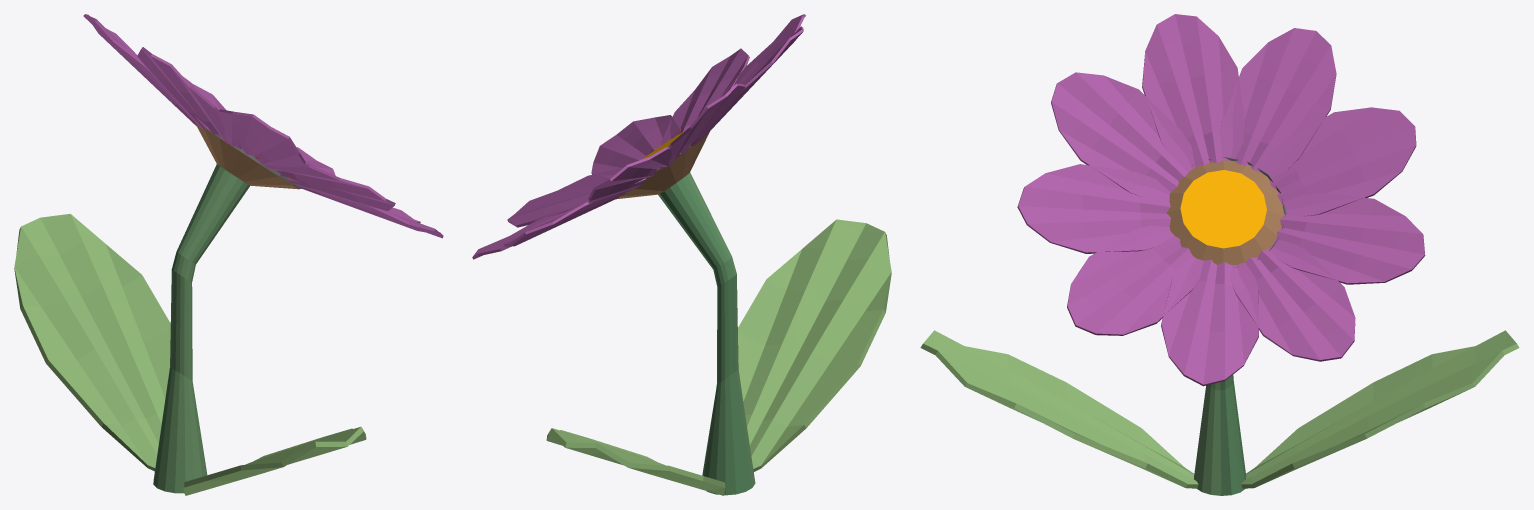
File: Flower_2 (3).fbx
The picture shows the model from 3 angles, left to right: view 1: azimuth 30°, elevation 25°; view 2: azimuth 150°, elevation 25°; view 3: azimuth 270°, elevation 25°; orthographic projection. The views are drawn at different scales.
Parts seen in each view (by area): view 1: Flower.001, Flower_2; view 2: Flower.001, Flower_2; view 3: Flower_2, Flower.001.
Boxes of the visible parts, x1,y1,x2,y2 form: Flower.001: [14, 214, 366, 495]; Flower_2: [83, 14, 443, 493]; Flower.001: [546, 219, 891, 495]; Flower_2: [472, 14, 805, 495]; Flower_2: [1017, 14, 1425, 495]; Flower.001: [920, 330, 1519, 488].
Bounding box in the file's own units: 26.47 × 41.56 × 50.22.
